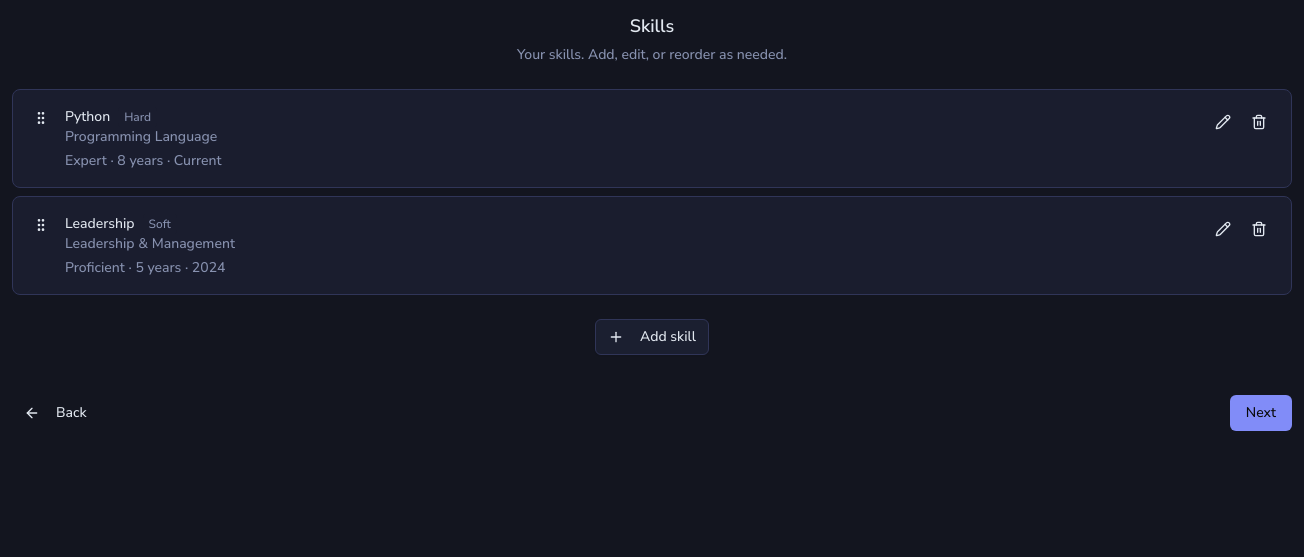
SkillsStep › edit flow › opens pre-filled form on edit click
The image size is (1304, 557).
What coordinates should you click on to do the following:
click the button named "edit python"
I would click on:
 (1223, 122)
Its box is [1207,106,1239,138].
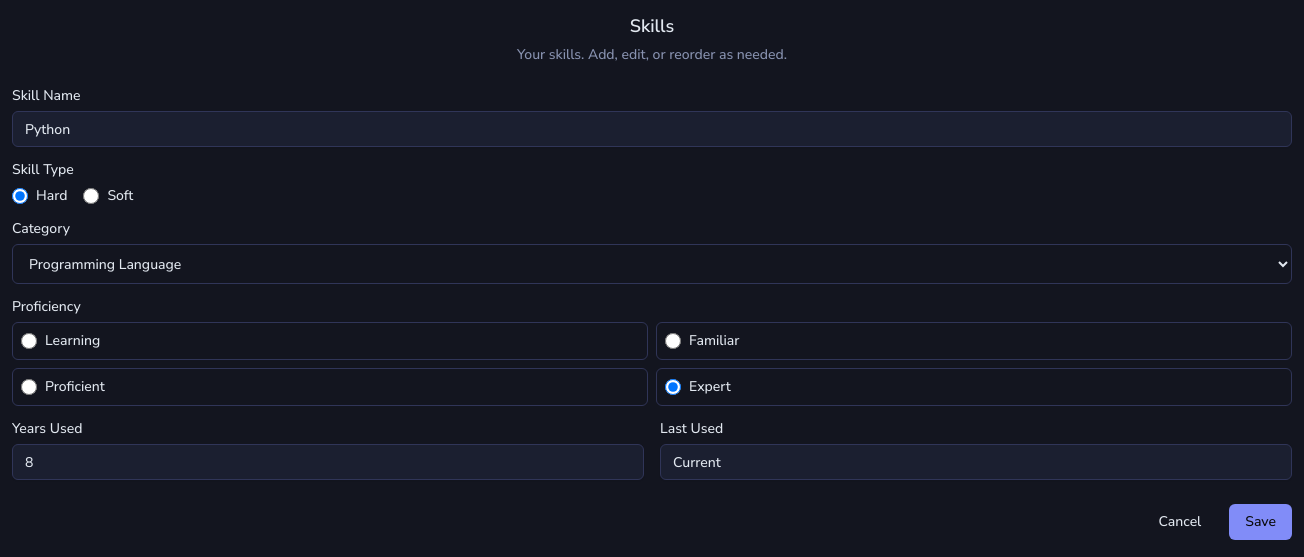
Expected: the element with test id "skills-form" is shown
Expected: the field labelled "Skill Name" holds "Python", [12,111,1292,147]
Expected: the radio button labelled "Hard" is checked, [12,188,28,204]
